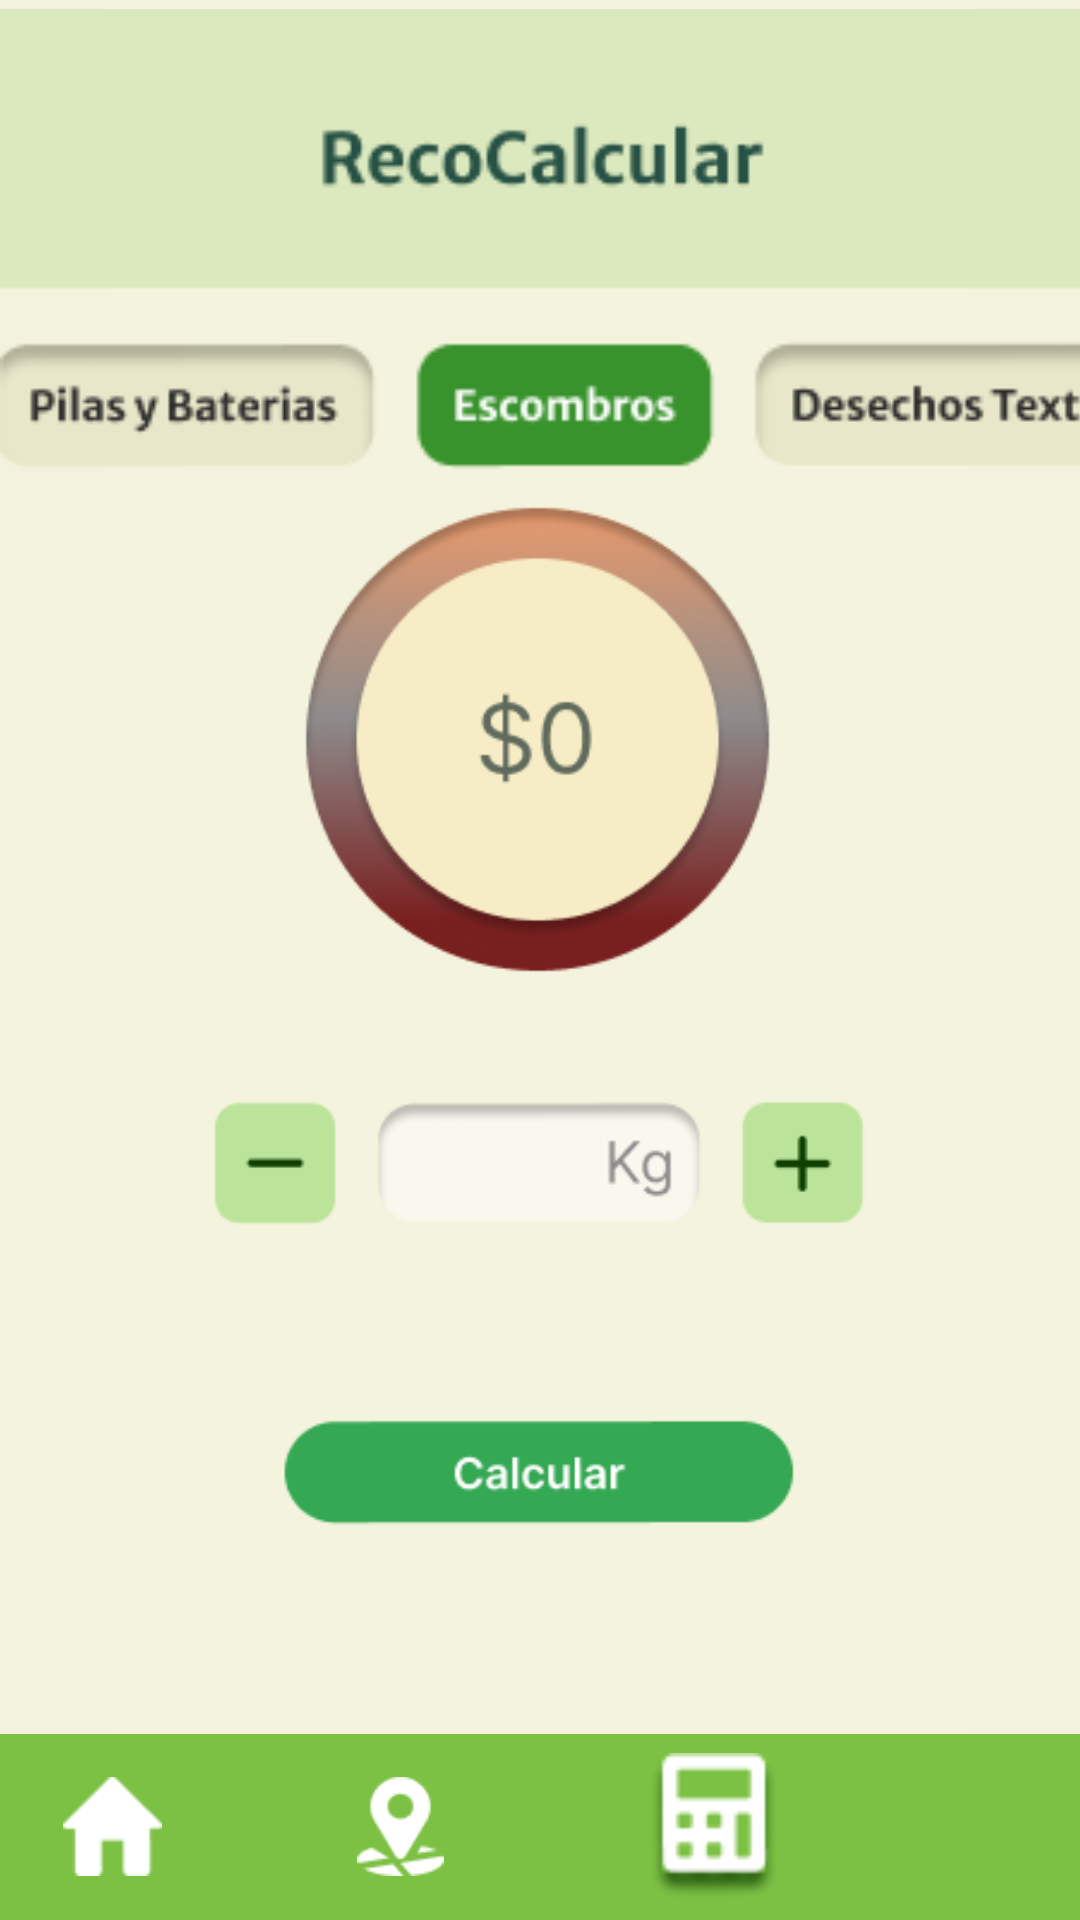

Named icons in this screenshot (1080*1920) and their bounding boxes, (x1, y1, x2, y2):
calculator: (658, 1753, 770, 1890)
